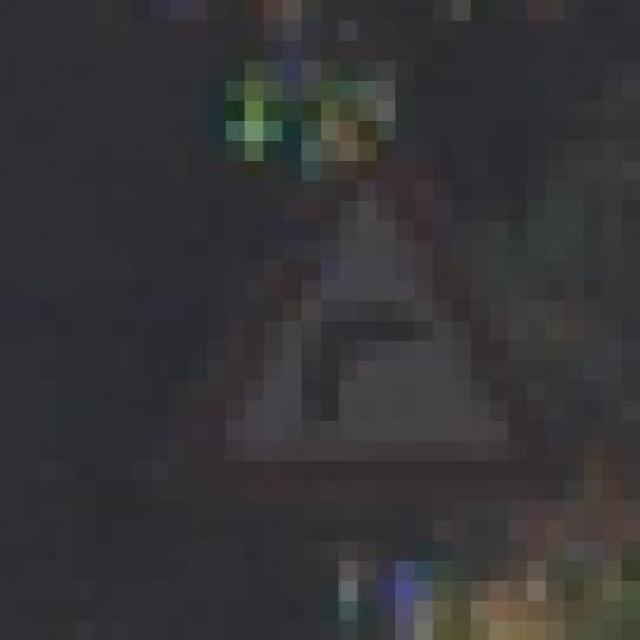Dangerous Rright Curve Ahead: (142, 100, 556, 520)
